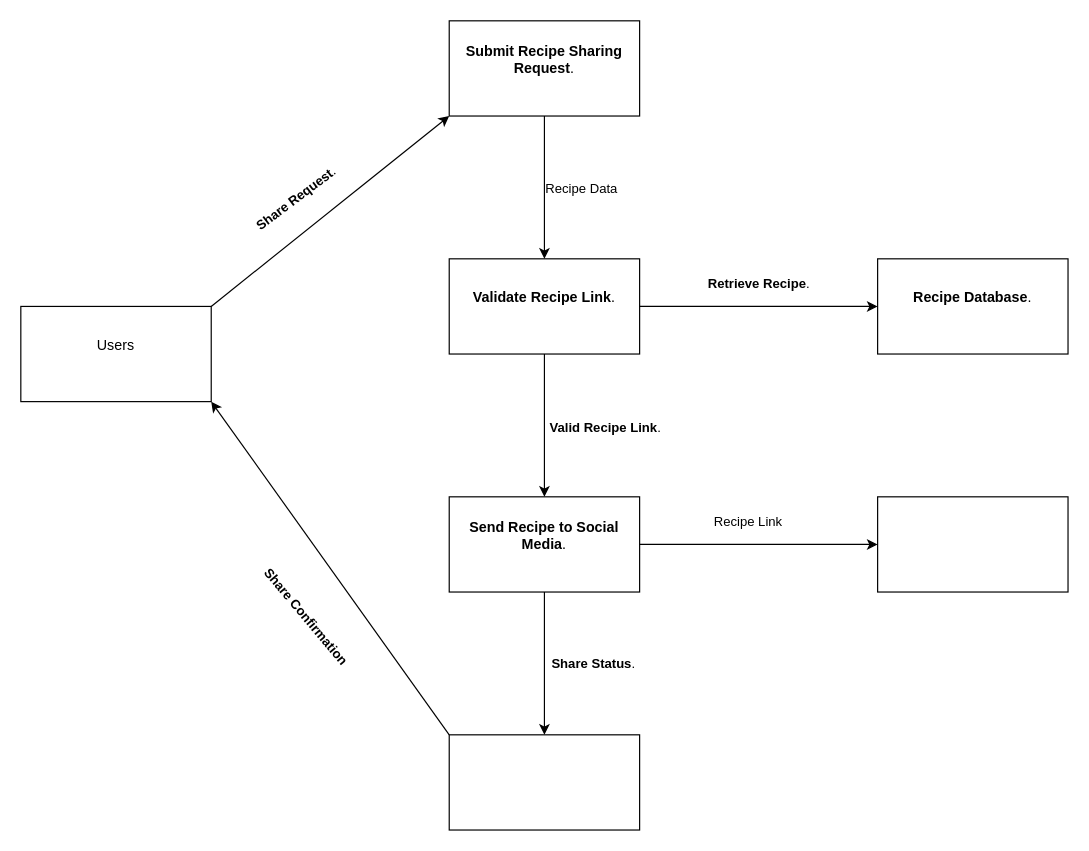
This 1089x851 diagram has some shape labels left out. Each missing label, with the centre of its shape:
"Display Confirmation ." goes at point (544, 782).
"Social Media" goes at point (972, 544).
